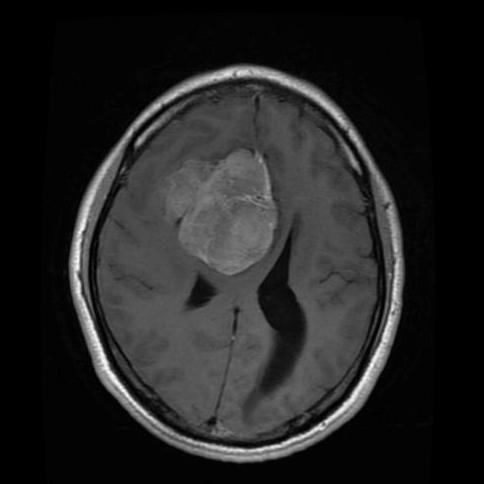Tumour-Meningioma: (179, 139, 295, 281)
